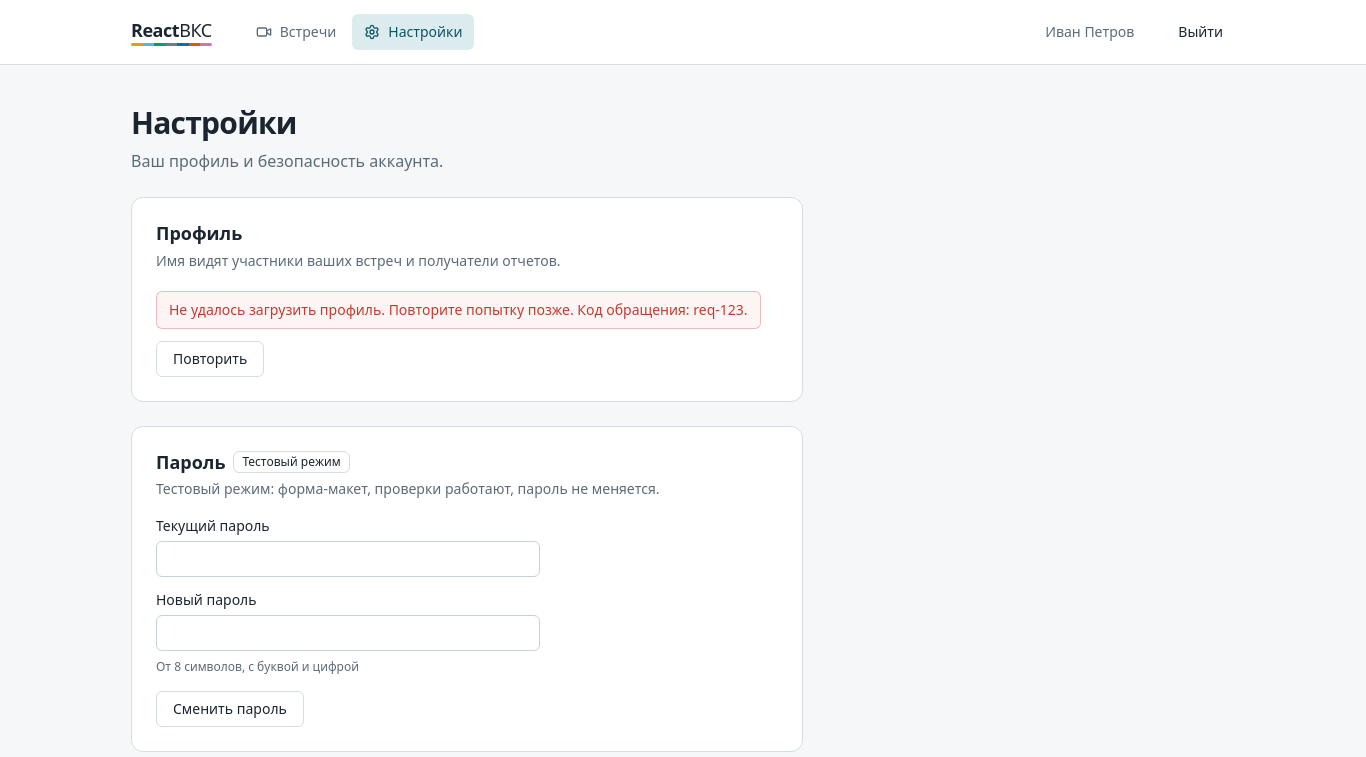
Test: профиль › ошибка загрузки профиля – сообщение и повтор
Expected: the message shows "Не удалось загрузить профиль", [169,300,748,318]
Click the button "Повторить" at (210, 358), box [156,340,264,376]
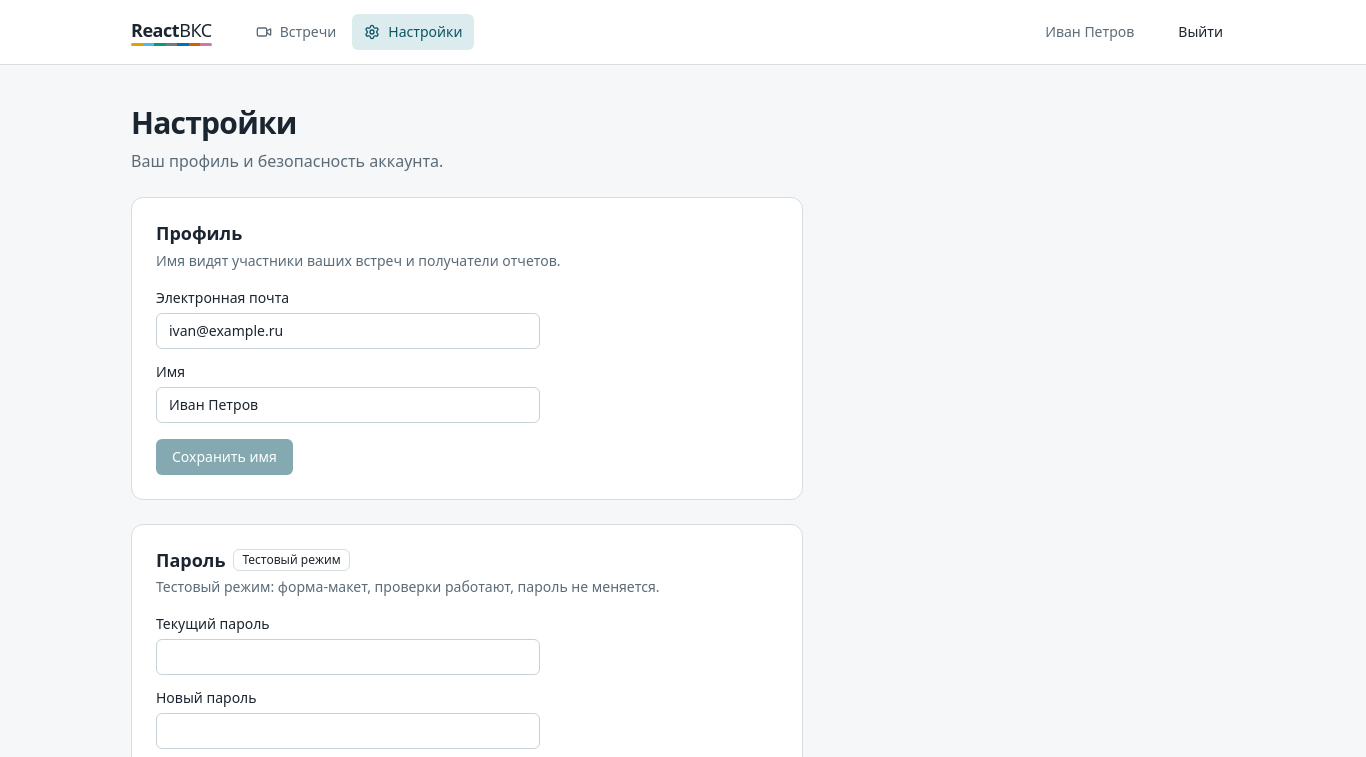
Expected: the field labelled "Имя" holds "Иван Петров", [156,386,540,422]
